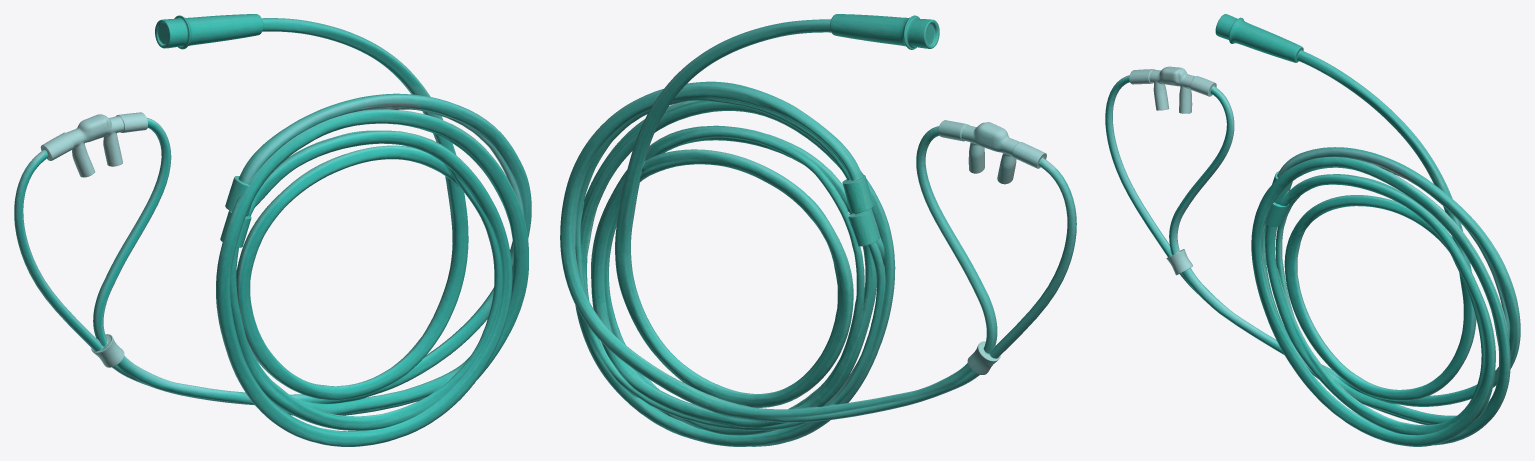
The picture shows the model from 3 angles, left to right: view 1: azimuth 30°, elevation 25°; view 2: azimuth 150°, elevation 25°; view 3: azimuth 330°, elevation 25°; orthographic projection. The views are drawn at different scales.
Size of the model in its own units: 1.9 by 1.67 by 0.1519.
1 material, 1 textured.
